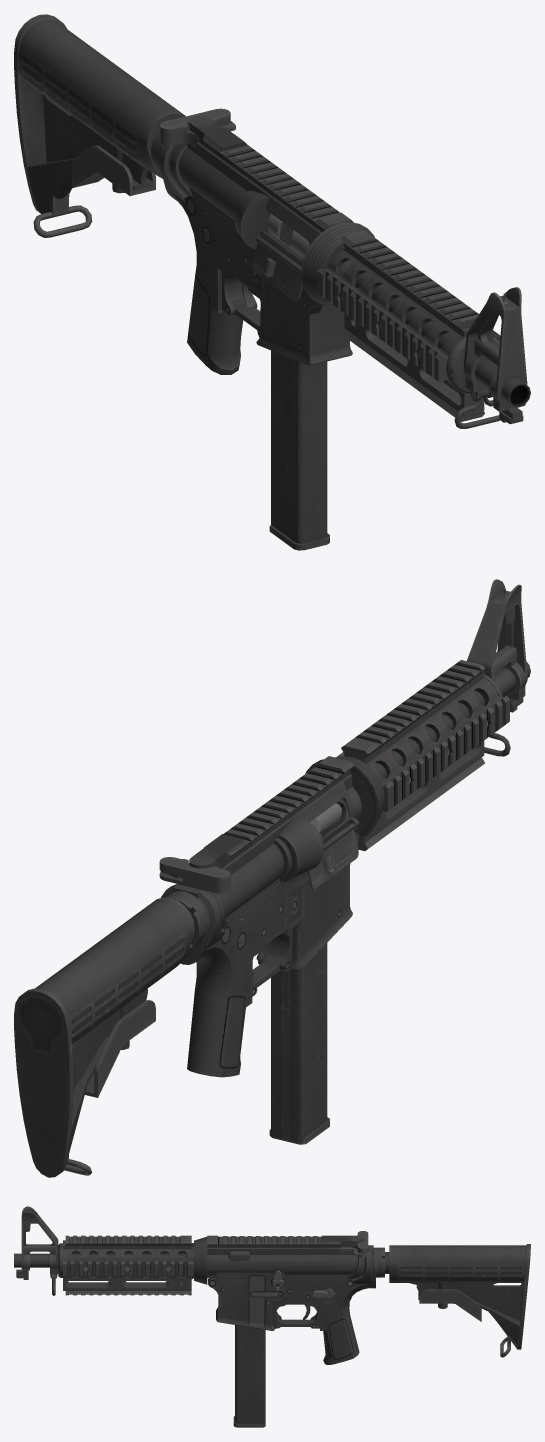
The model's file is raw.glb.
3 renders of one model, top to bottom at view 1: azimuth 30°, elevation 25°; view 2: azimuth 150°, elevation 25°; view 3: azimuth 270°, elevation 25°, orthographic. The views are drawn at different scales.
Parts seen in each view (by area): view 1: ro635_LOD0; view 2: ro635_LOD0; view 3: ro635_LOD0.
Part boxes in pixels (x1,y1,x2,y2): ro635_LOD0: (14, 14, 530, 550); ro635_LOD0: (14, 579, 530, 1177); ro635_LOD0: (14, 1206, 530, 1427).
Bounding box in the file's own units: 0.0596 × 0.2804 × 0.6158.
1 material, 1 textured.
